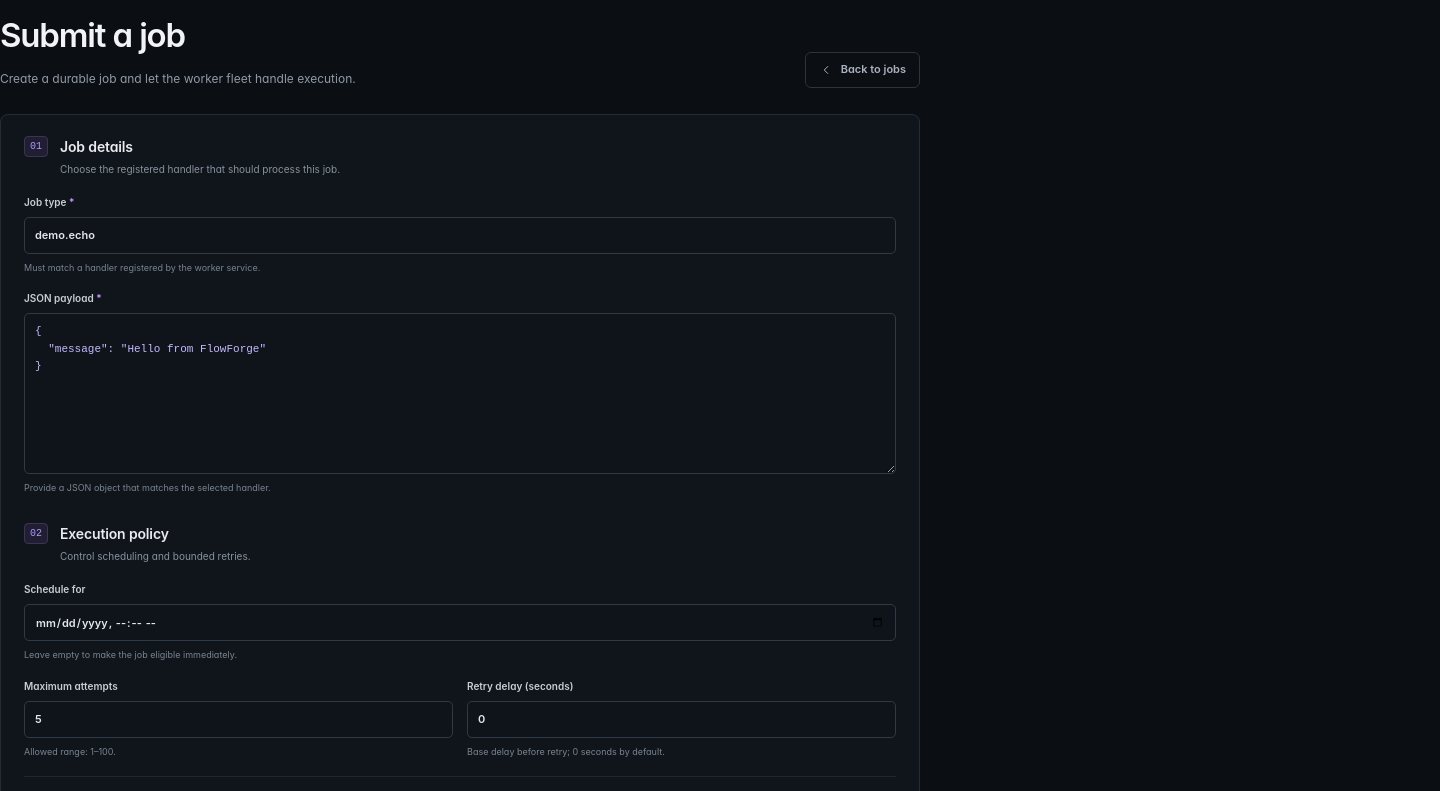
CreateJobPage › blocks submission when the payload is not a JSON object
Replace the text in the text box labelled "JSON payload" with "[]": (460, 394) [24, 313, 896, 474]
(page scrolled)
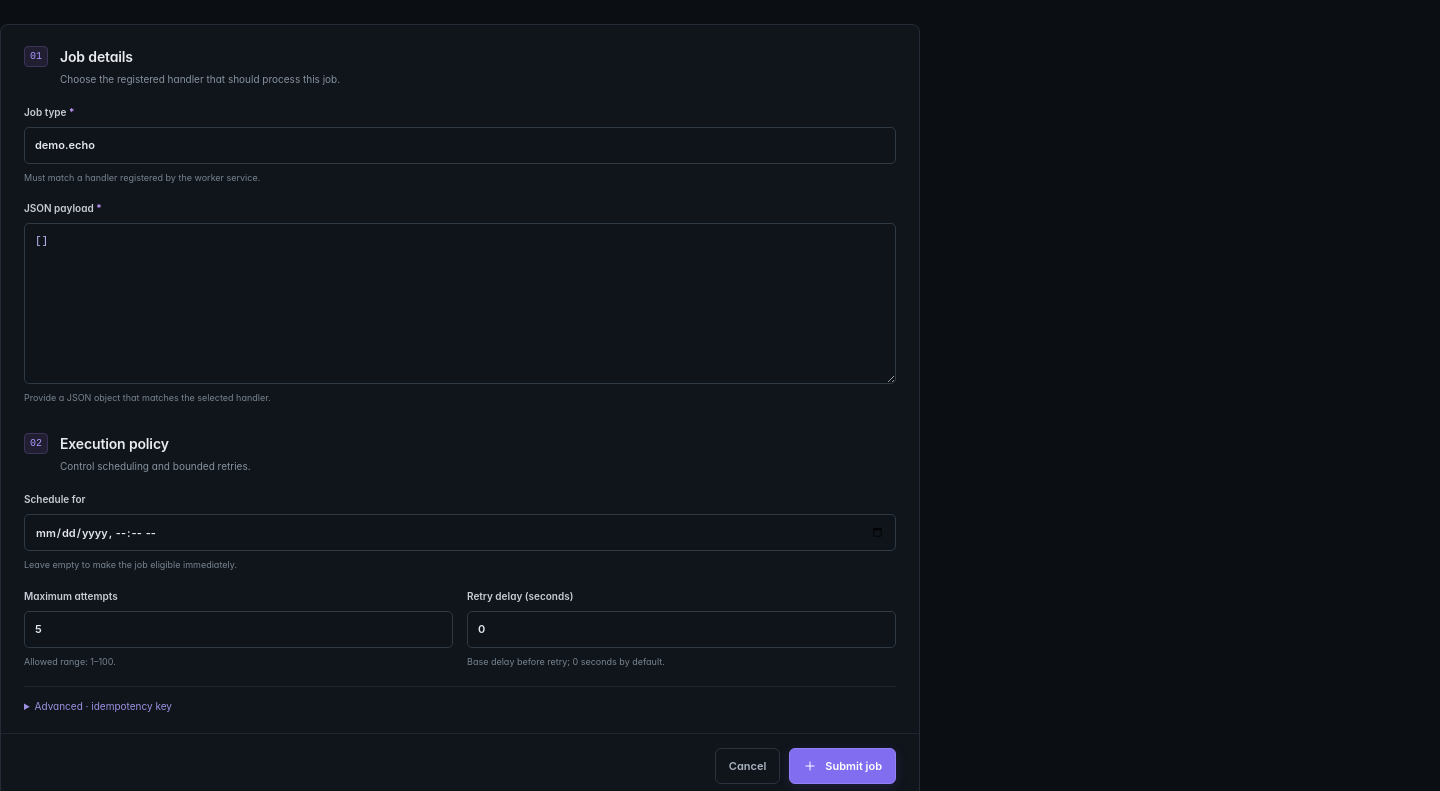
Click the button "Submit job": (843, 766) [789, 748, 896, 784]
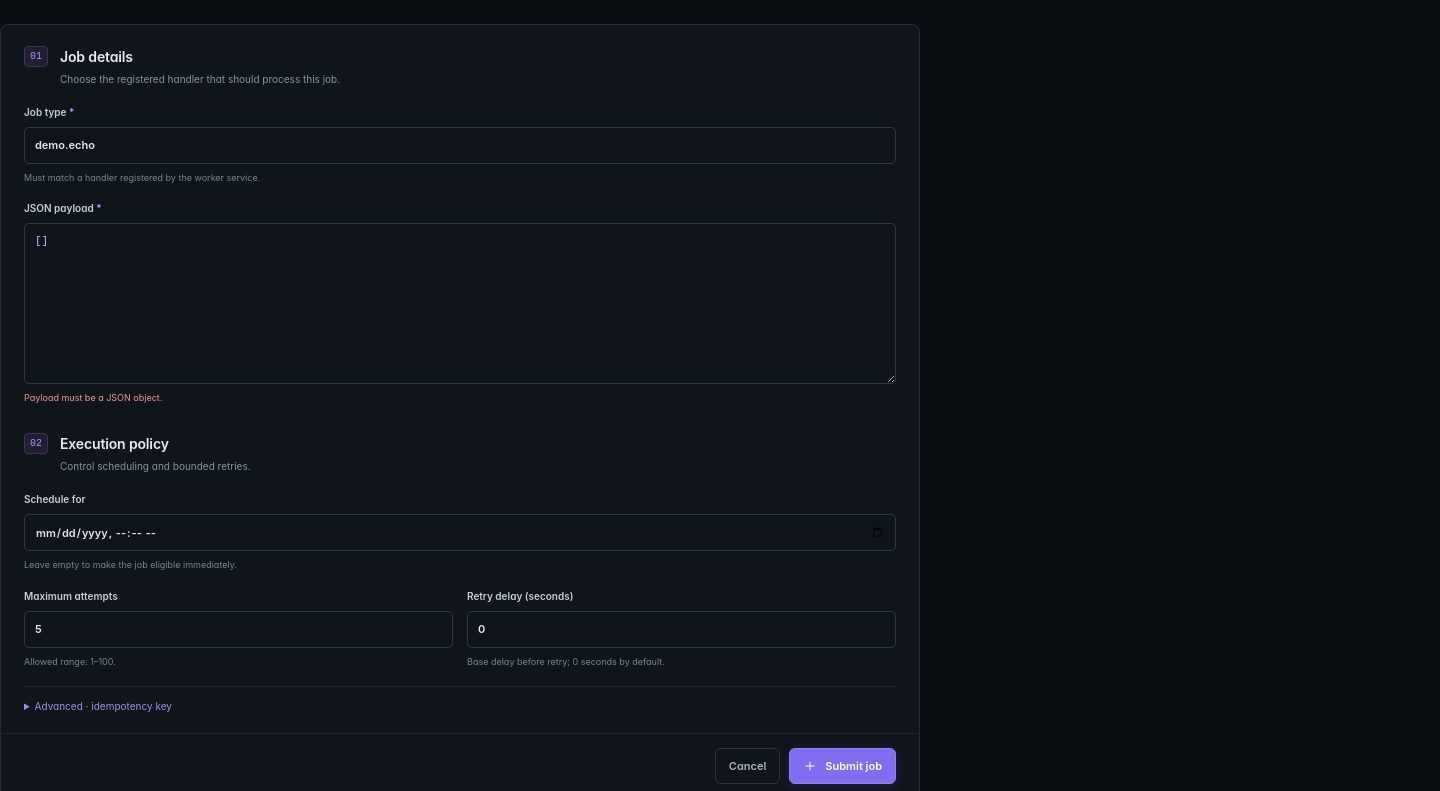
Expected: the text "Payload must be a JSON object." is shown, [24, 392, 162, 403]
